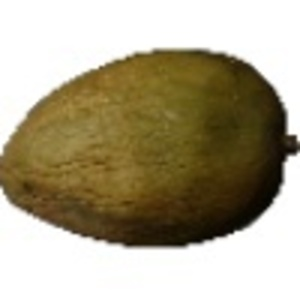mamão: (6, 42, 291, 252)
